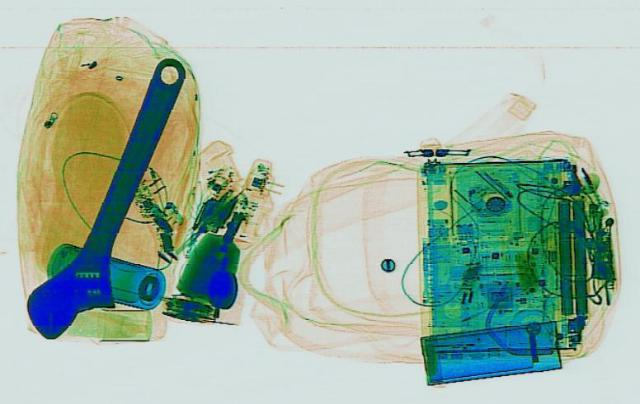Wrench: (11, 52, 215, 342)
